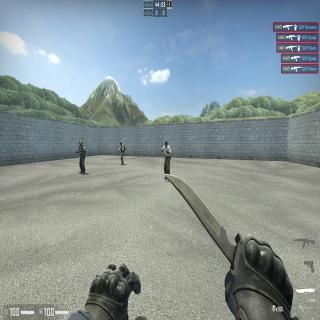CT-Body: (163, 141, 171, 175), (78, 140, 85, 174), (120, 141, 124, 165)
CT-Head: (165, 141, 168, 148), (80, 140, 82, 146), (120, 141, 122, 146)
